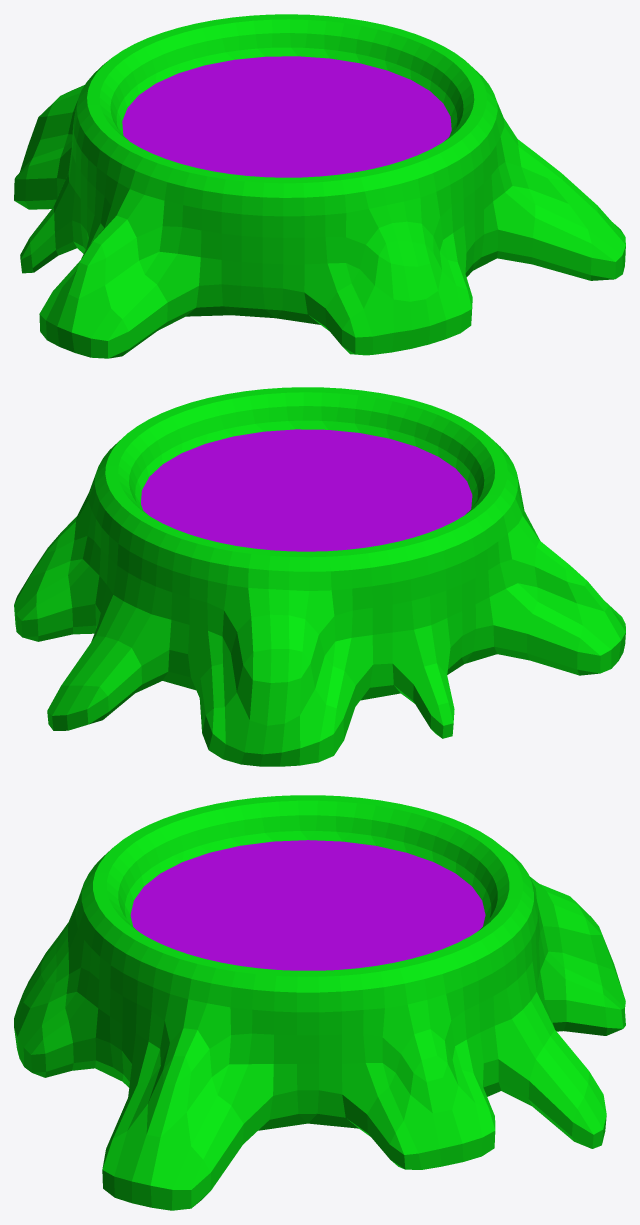
The model's file is TreeStump01.fbx.
3 renders of one model, top to bottom at view 1: azimuth 30°, elevation 25°; view 2: azimuth 150°, elevation 25°; view 3: azimuth 270°, elevation 25°, orthographic. The views are drawn at different scales.
Visible parts, largest first — view 1: Cylinder; view 2: Cylinder; view 3: Cylinder.
Part boxes in pixels (left/top/right/bottom): Cylinder: left=14, top=14, right=625, bottom=358; Cylinder: left=14, top=387, right=625, bottom=766; Cylinder: left=14, top=795, right=625, bottom=1210.
Bounding box in the file's own units: 290 × 94.57 × 263.
